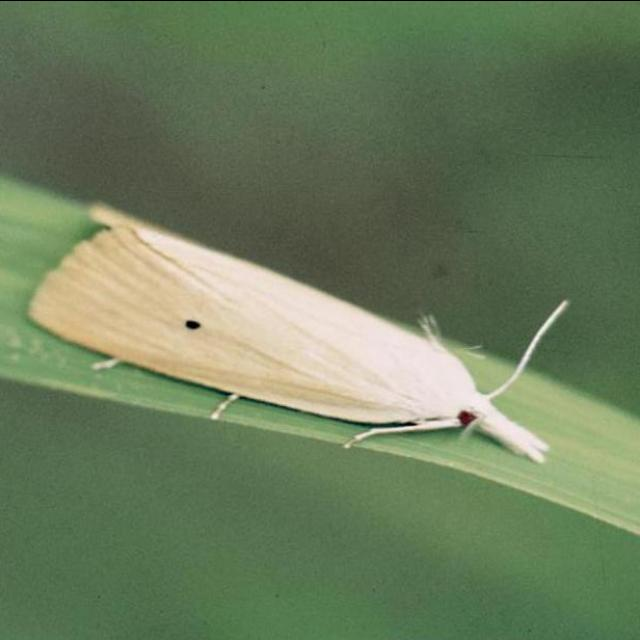stem borer: (29, 207, 550, 461)
